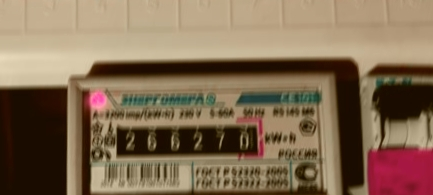0: (239, 132, 252, 149)
2: (124, 131, 138, 149), (193, 131, 205, 149)
6: (147, 132, 160, 150), (170, 133, 183, 151)
7: (216, 131, 228, 149)
screen: (107, 114, 271, 166)
